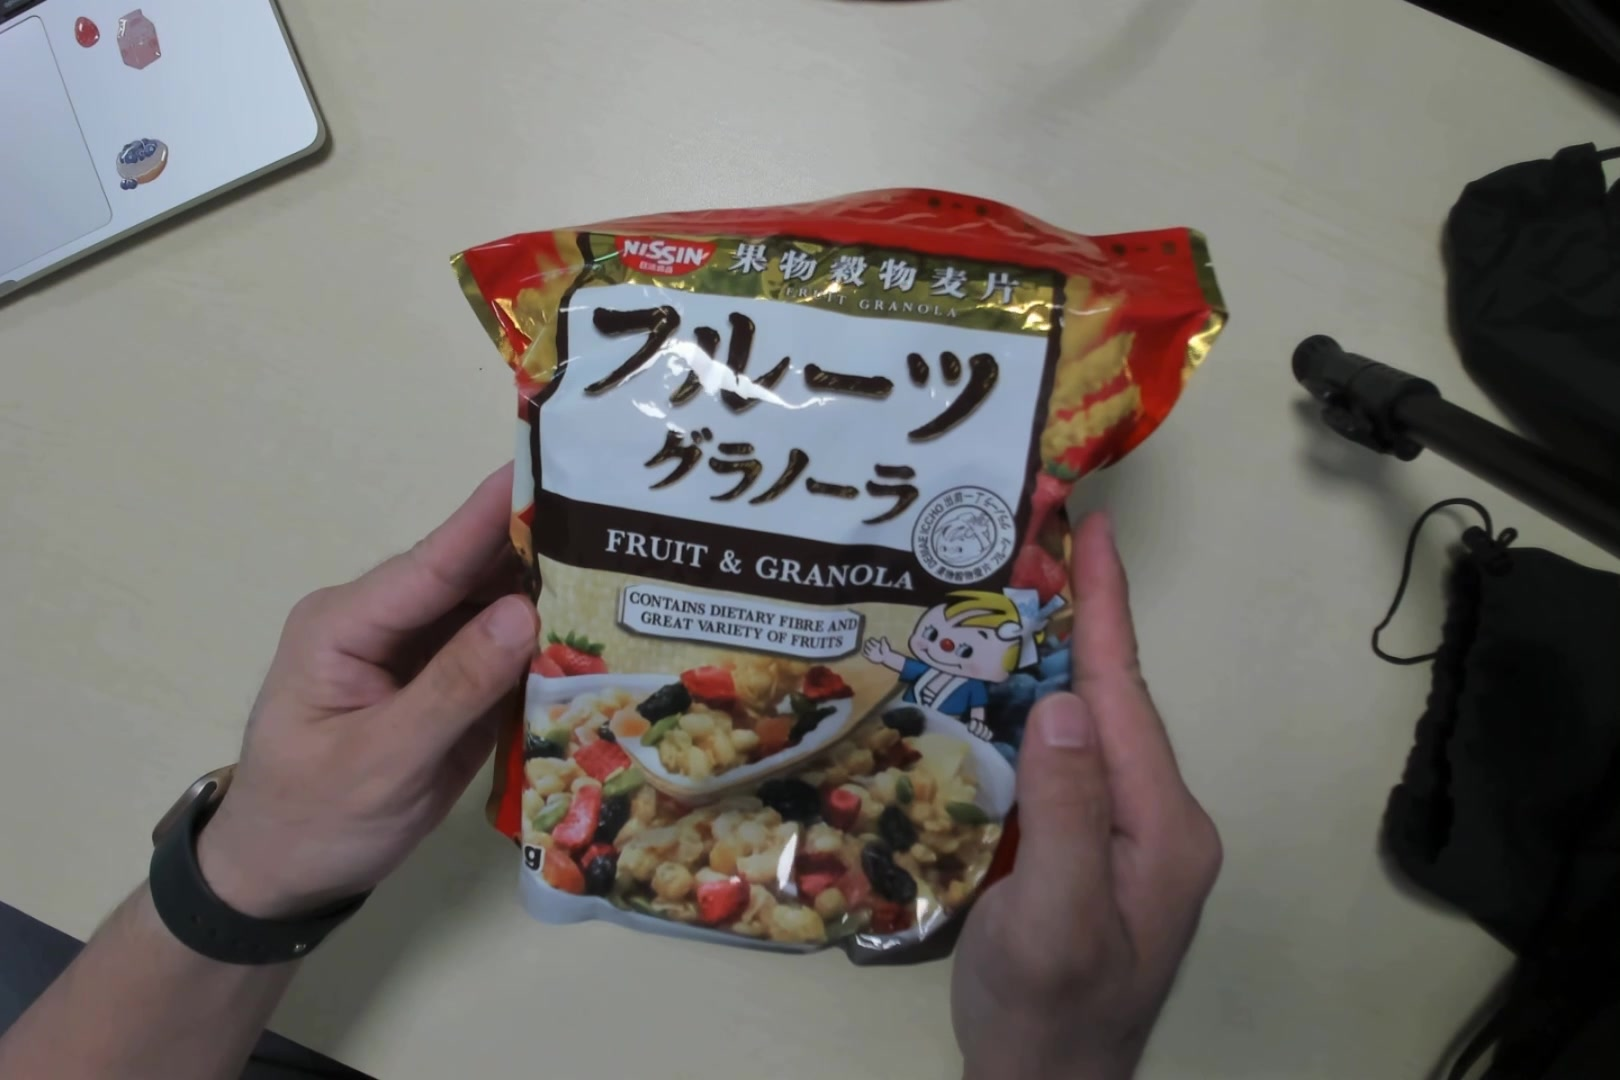BreakfastCereals_300-399g_NonHalal_NonHealthy: (472, 221, 1081, 951)
